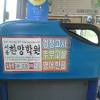seat: (5, 10, 97, 83)
